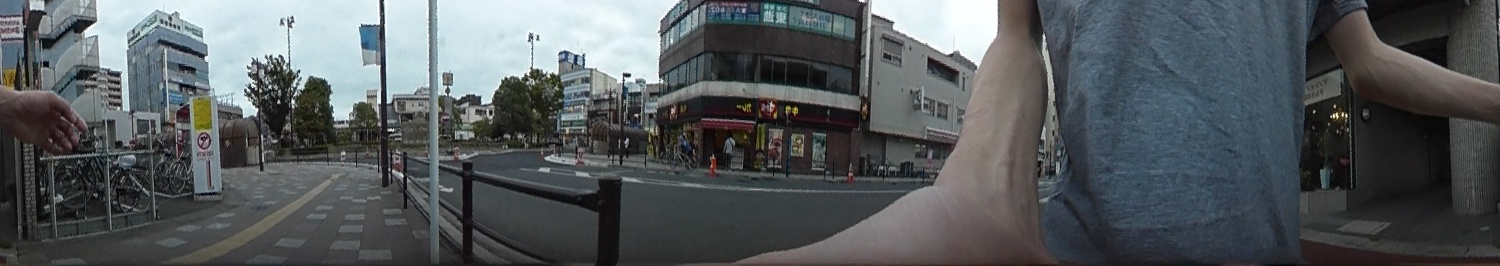difficult_person: (678, 129, 693, 167), (721, 130, 734, 172)
